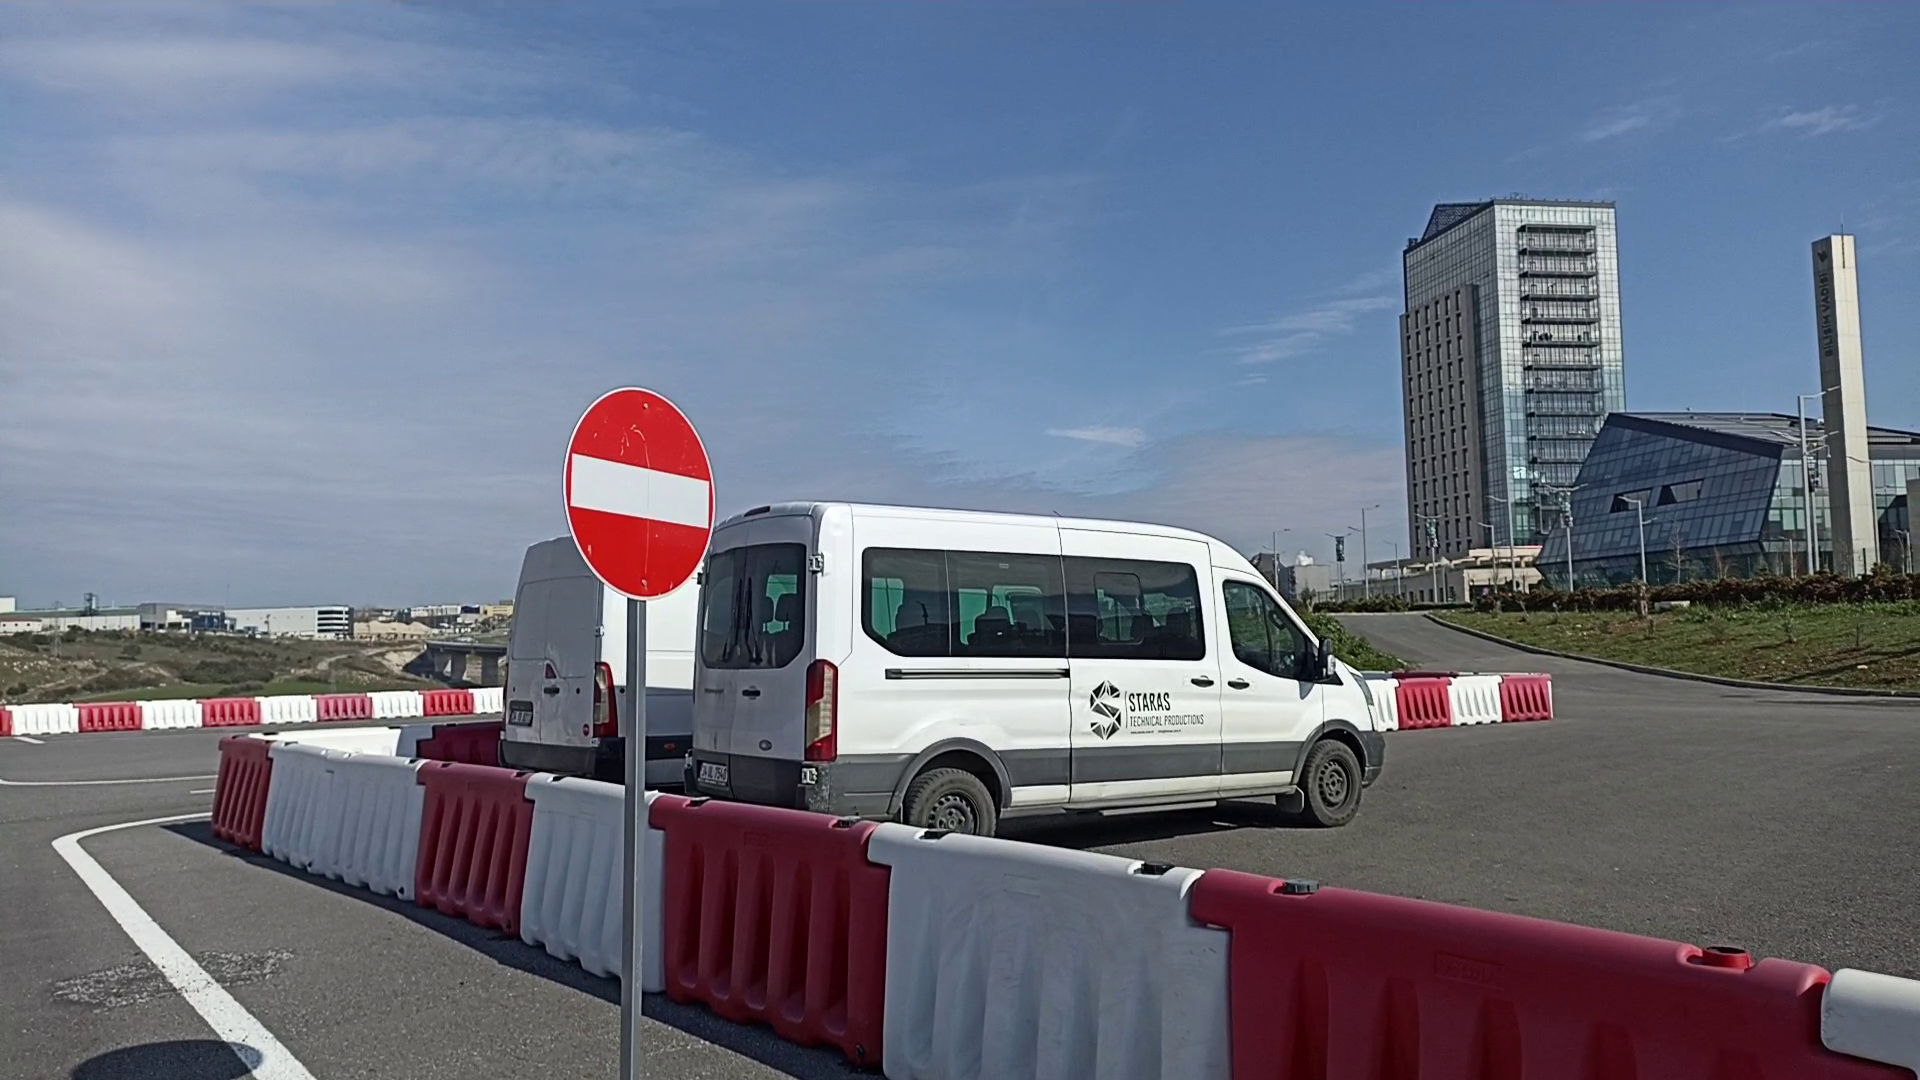noentryway: (558, 382, 717, 604)
